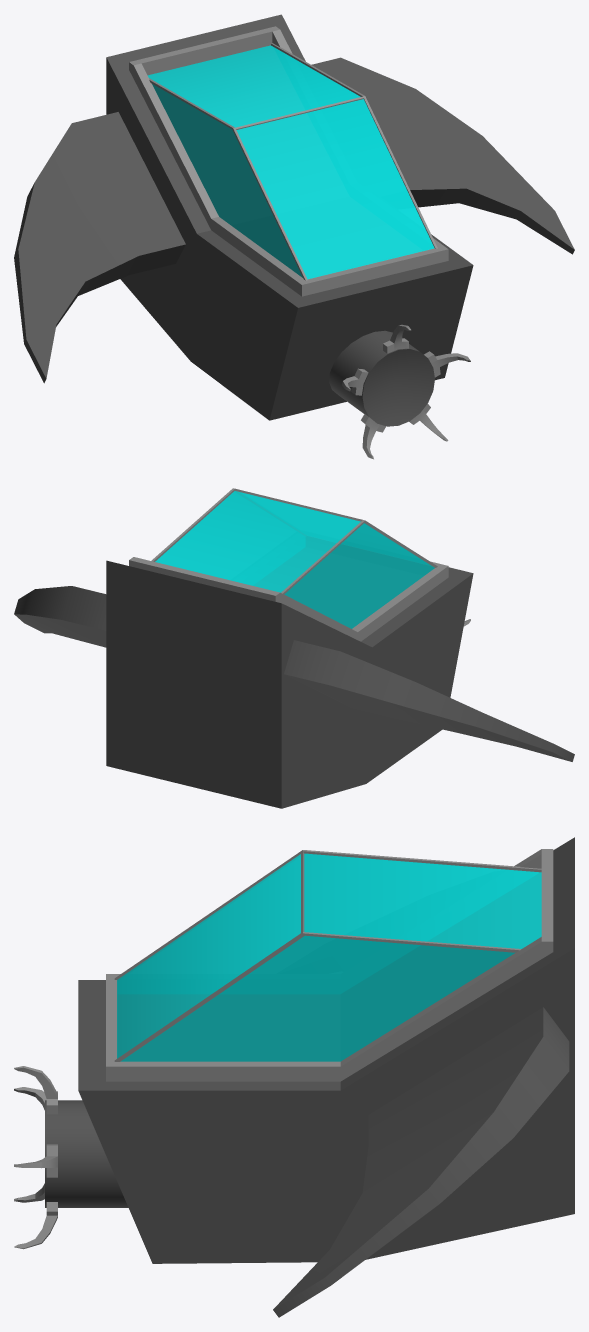
File: Ally.fbx
The picture shows the model from 3 angles, top to bottom: view 1: azimuth 30°, elevation 25°; view 2: azimuth 150°, elevation 25°; view 3: azimuth 270°, elevation 25°; orthographic projection. The views are drawn at different scales.
Visible parts, largest first — view 1: Ally_Ship; view 2: Ally_Ship; view 3: Ally_Ship.
Boxes of the visible parts, x1,y1,x2,y2 form: Ally_Ship: (14, 14, 574, 459); Ally_Ship: (14, 488, 574, 808); Ally_Ship: (14, 837, 574, 1317).
Size of the model in its own units: 30.21 by 14.11 by 21.45.
